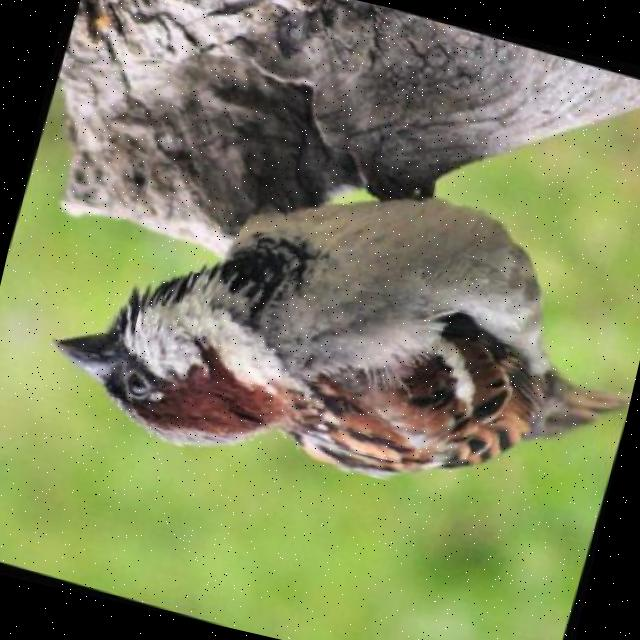sparrow: (27, 102, 640, 565)
